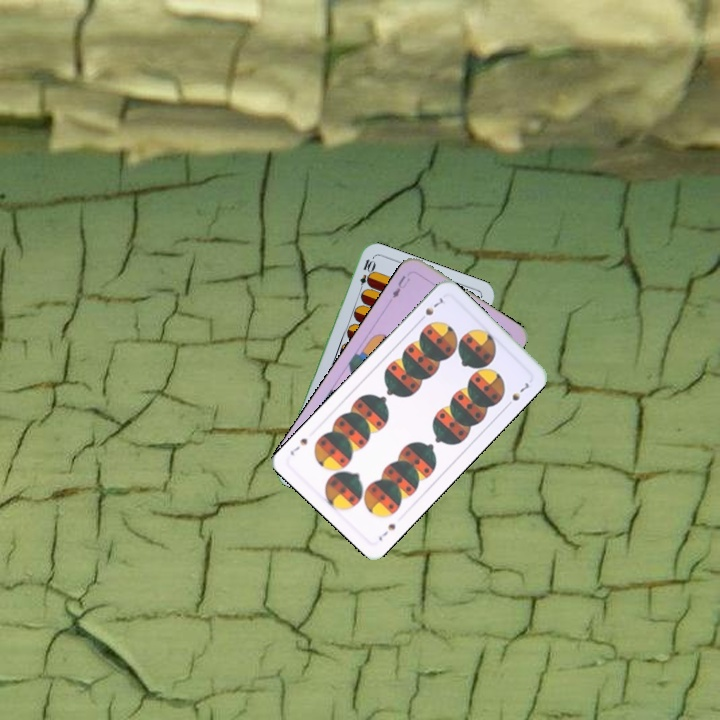E10: (355, 255, 376, 295)
EU: (388, 271, 413, 301)
S7: (415, 294, 446, 325), (374, 519, 398, 544)
